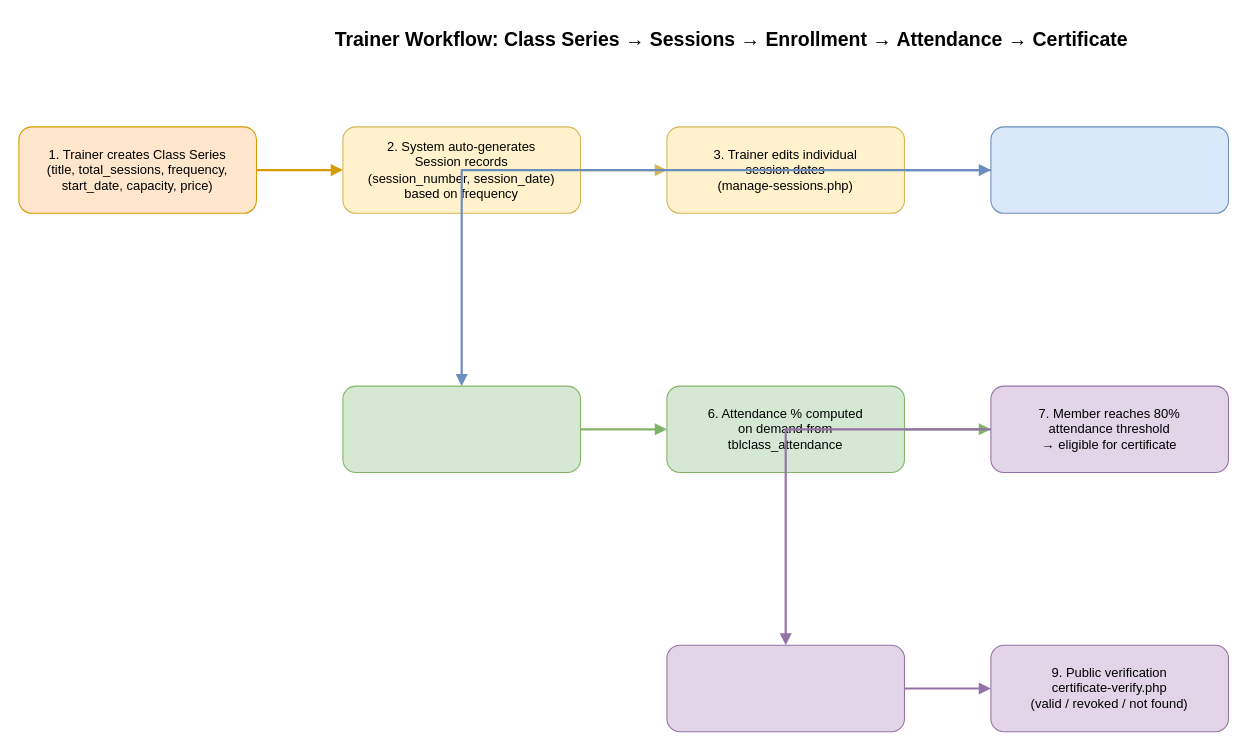
The diagram is 1247 pixels wide and 751 high, and some of its shapes have lost their labels. Here are the shapes that lost their labels. From the top down, the centre of each, then its label:
point 1109,169: 4. Member enrolls via "Pay & Enroll" (M-Pesa payment)
point 461,429: 5. Trainer marks per-session attendance (attended / late / absent)
point 785,688: 8. Trainer issues certificate (unique code HSP-XXXX, completion date, is_active)
